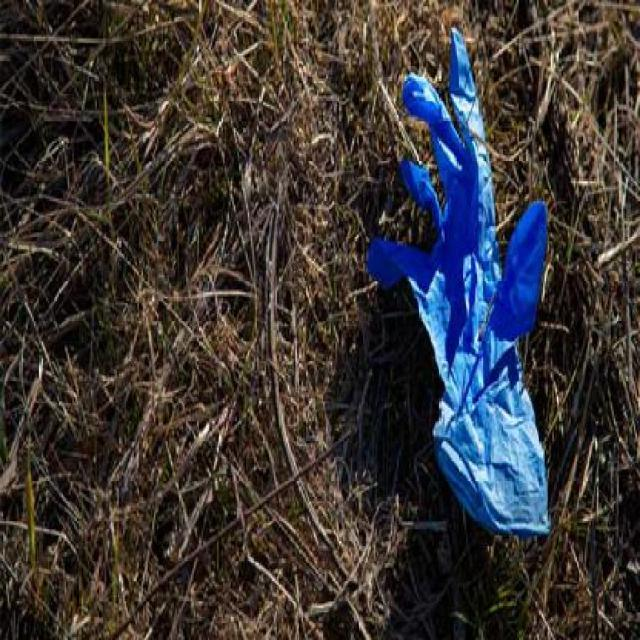gloved_hand: (362, 22, 550, 542)
